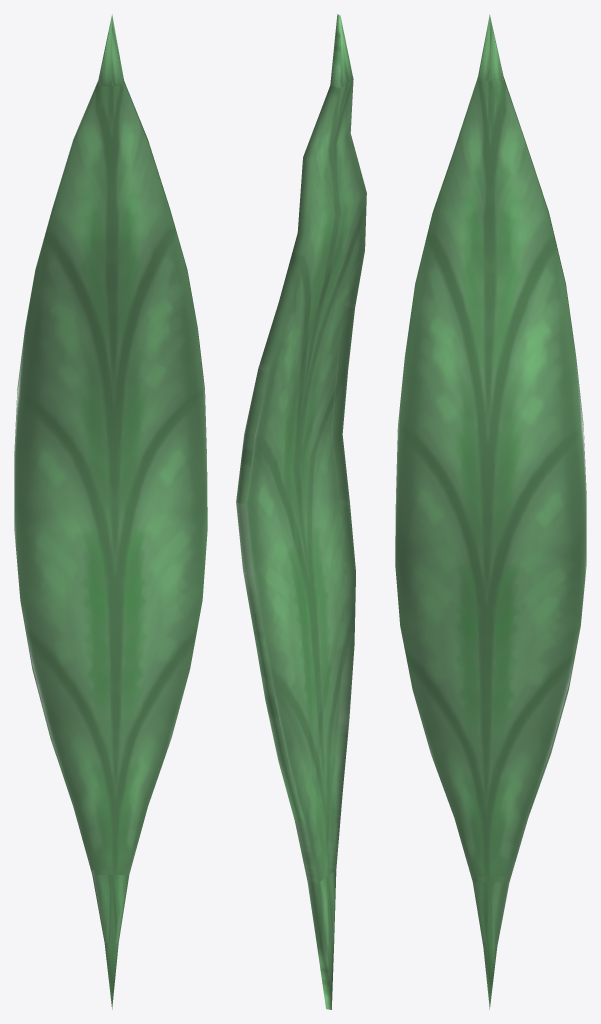
The model's file is feuille.fbx.
The picture shows the model from 3 angles, left to right: view 1: azimuth 90°, elevation 25°; view 2: azimuth 150°, elevation 25°; view 3: azimuth 270°, elevation 25°; orthographic projection.
Parts seen in each view (by area): view 1: Plane; view 2: Plane; view 3: Plane.
Boxes of the visible parts, x1,y1,x2,y2 form: Plane: [14, 14, 207, 1009]; Plane: [236, 14, 366, 1009]; Plane: [395, 14, 586, 1009].
Size of the model in its own units: 19.14 by 291 by 51.06.
Materials: 1 (1 with a texture image).
